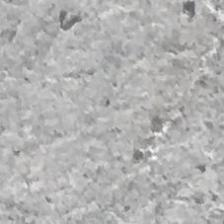Non_Crack: (15, 1, 202, 224)
